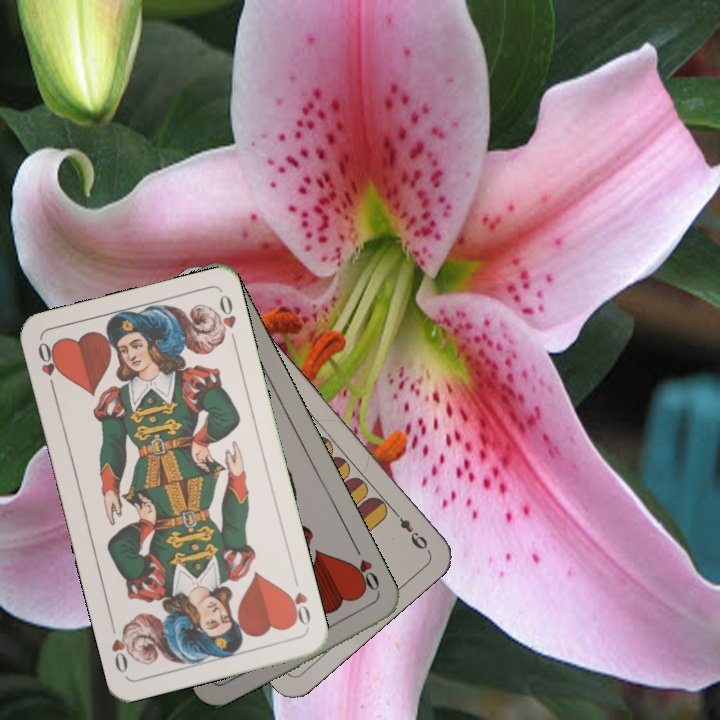E9: (388, 505, 431, 553)
HO: (345, 542, 383, 597), (282, 572, 313, 628), (34, 338, 63, 395)
